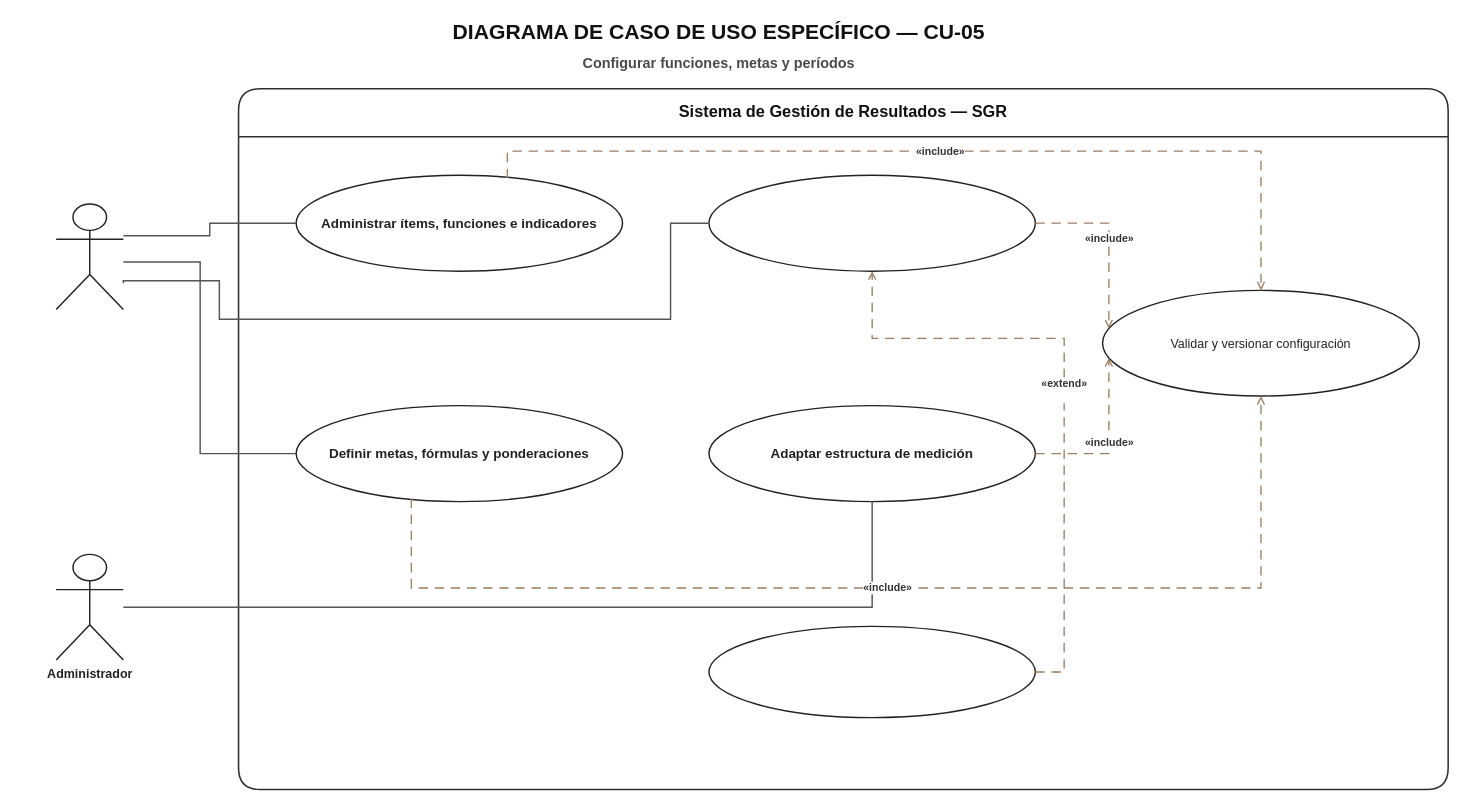
Image size: 1466x806. Some labels were removed from this diagram. Here are the shapes that lost their labels. From the top down, the centre of each, then its label:
At [872,222]: "Administrar períodos de medición".
At [89,256]: "Coordinador del sistema".
At [872,671]: "Reabrir período cerrado".
